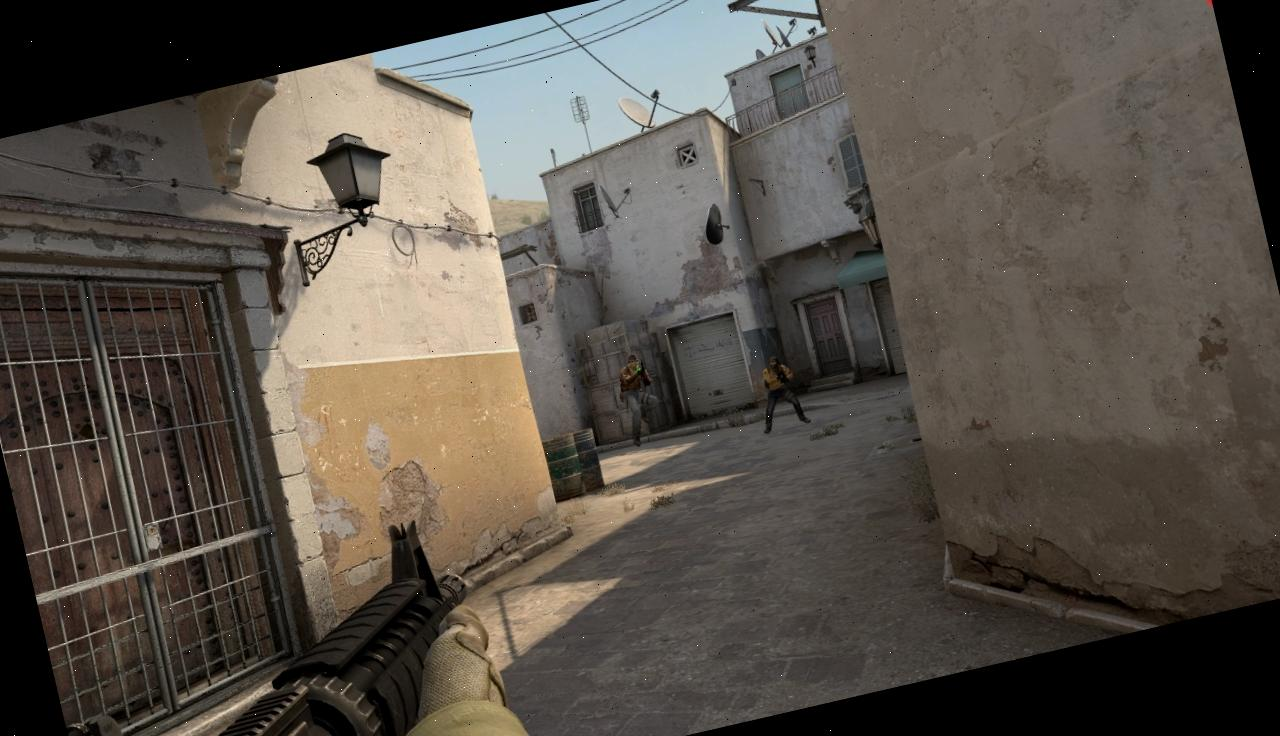rifle: (38, 499, 553, 736)
tt: (612, 350, 667, 448), (747, 352, 807, 432)
tthead: (626, 353, 640, 370), (768, 355, 781, 371)
